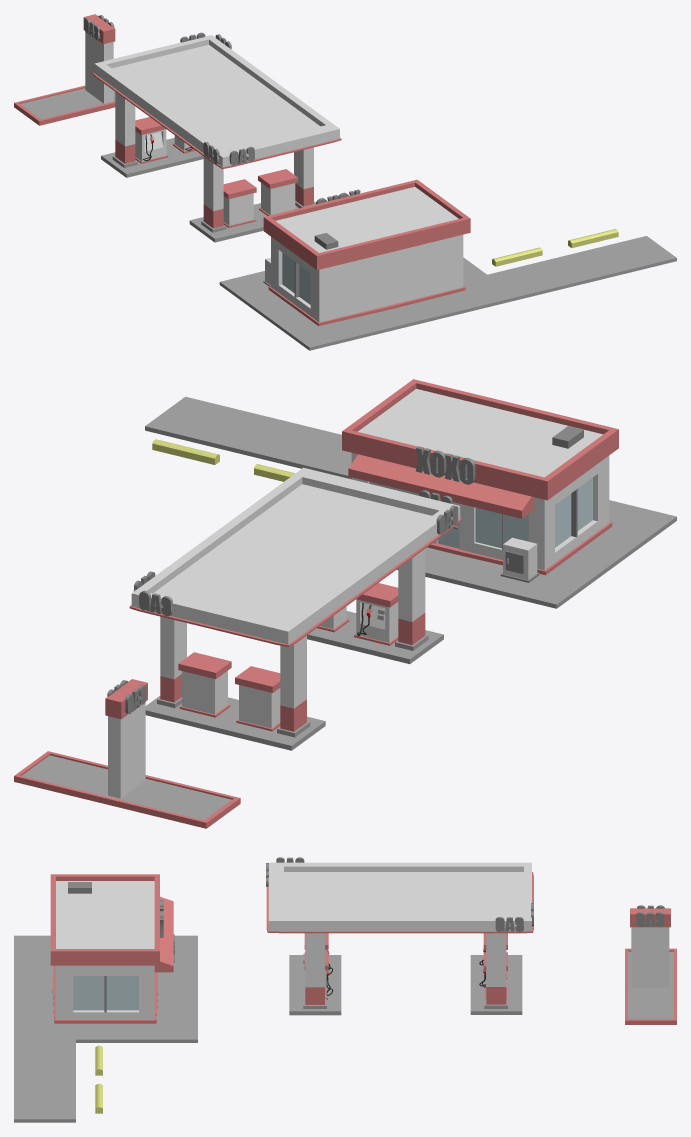
The model's file is gas2.fbx.
3 views of the same model, one above another, from view 1: azimuth 30°, elevation 25°; view 2: azimuth 150°, elevation 25°; view 3: azimuth 270°, elevation 25° (orthographic). The views are drawn at different scales.
Visible parts, largest first — view 1: pCube2, pasted__pCube4, pasted__pCube2, pasted__pCube1, pCube7 (×2), pCube741, pCube3, pCube727, pCube728, pCube736, pCube1; view 2: pCube2, pasted__pCube2, pasted__pCube4, pasted__pCube1, pCube727, pCube7 (×2), carpa:pCube26, pCube741, pCube3, pCube728, pCube743, pCube10 (+3 smaller); view 3: pCube2, pasted__pCube4, pasted__pCube1, pasted__pCube2, pCube728, pCube743, pCube1, pCube727, carpa:pCube26, pCube3, pCube741.
Boxes of the visible parts, bbox=[...] form: pCube2: bbox=[93, 35, 341, 168]; pasted__pCube4: bbox=[219, 236, 676, 350]; pasted__pCube2: bbox=[263, 198, 394, 325]; pasted__pCube1: bbox=[340, 179, 470, 308]; pCube7 (×2): bbox=[135, 117, 256, 227]; pCube741: bbox=[101, 92, 182, 177]; pCube3: bbox=[189, 156, 263, 242]; pCube727: bbox=[14, 85, 115, 125]; pCube728: bbox=[83, 14, 115, 103]; pCube736: bbox=[258, 169, 297, 215]; pCube1: bbox=[253, 147, 315, 219]; pCube2: bbox=[129, 467, 462, 647]; pasted__pCube2: bbox=[444, 404, 618, 575]; pasted__pCube4: bbox=[145, 396, 676, 608]; pasted__pCube1: bbox=[342, 379, 516, 551]; pCube727: bbox=[14, 751, 240, 828]; pCube7 (×2): bbox=[235, 583, 398, 731]; carpa:pCube26: bbox=[348, 454, 534, 518]; pCube741: bbox=[216, 635, 325, 750]; pCube3: bbox=[334, 549, 443, 664]; pCube728: bbox=[105, 679, 147, 798]; pCube743: bbox=[145, 616, 238, 732]; pCube10: bbox=[178, 652, 231, 717]; pCube2: bbox=[266, 862, 533, 933]; pasted__pCube4: bbox=[14, 935, 197, 1122]; pasted__pCube1: bbox=[50, 912, 159, 1023]; pasted__pCube2: bbox=[50, 874, 159, 983]; pCube728: bbox=[630, 908, 670, 988]; pCube743: bbox=[470, 933, 522, 1014]; pCube1: bbox=[289, 933, 341, 1015]; pCube727: bbox=[625, 948, 676, 1024]; carpa:pCube26: bbox=[154, 896, 173, 972]; pCube3: bbox=[289, 954, 341, 983]; pCube741: bbox=[470, 955, 522, 983].
Bounding box in the file's own units: 90.72 × 22.95 × 138.
